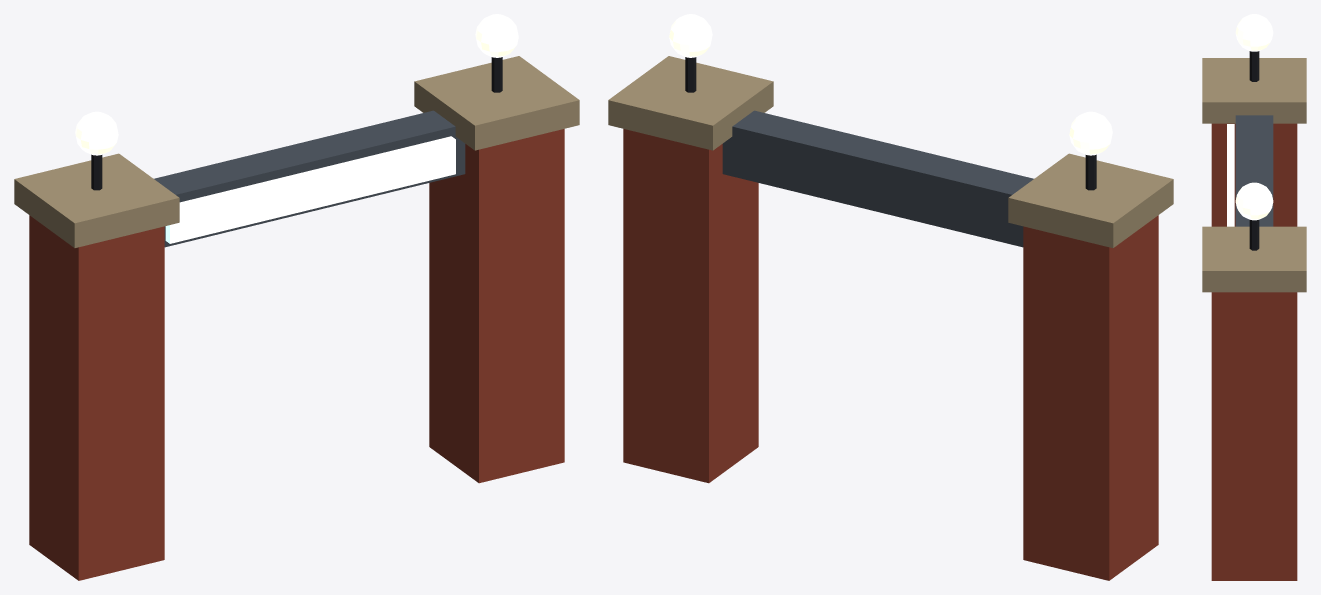
Rendered from vpc-boundary.glb.
The picture shows the model from 3 angles, left to right: view 1: azimuth 30°, elevation 25°; view 2: azimuth 150°, elevation 25°; view 3: azimuth 270°, elevation 25°; orthographic projection. The views are drawn at different scales.
Parts seen in each view (by area): view 1: cw_paint, cw_neon, cw_glow; view 2: cw_paint, cw_glow; view 3: cw_paint, cw_glow, cw_neon.
Part boxes in pixels (bbox=[...]): cw_paint: bbox=[14, 56, 579, 580]; cw_neon: bbox=[165, 136, 455, 243]; cw_glow: bbox=[75, 14, 518, 155]; cw_paint: bbox=[608, 56, 1173, 580]; cw_glow: bbox=[669, 14, 1112, 155]; cw_paint: bbox=[1202, 51, 1306, 580]; cw_glow: bbox=[1235, 14, 1273, 220]; cw_neon: bbox=[1227, 124, 1234, 226].
Bounding box in the file's own units: 5.3 × 4.4 × 1.1.
